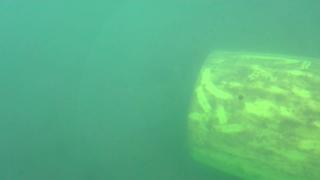pipe: (186, 49, 320, 180)
